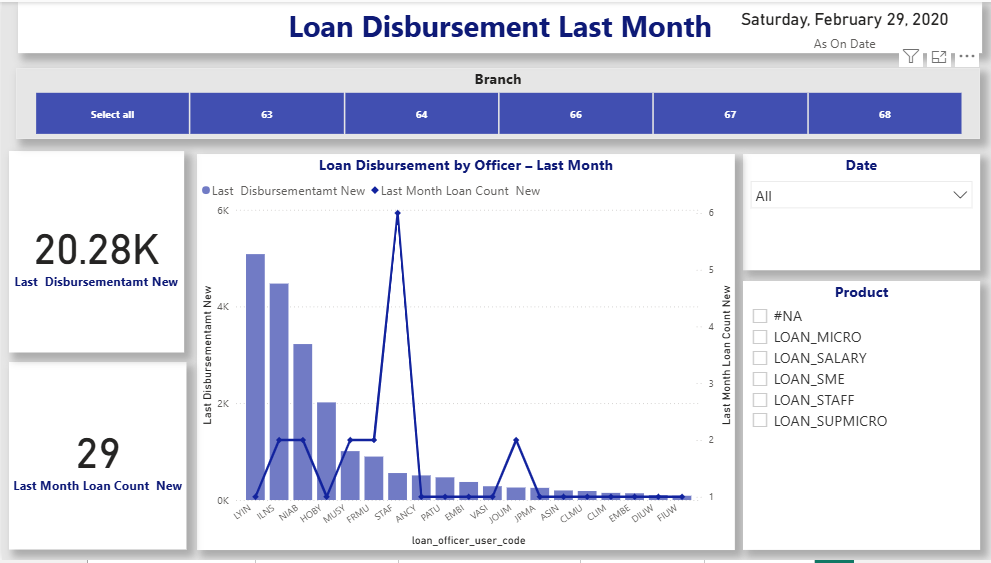

The page's visual inventory and layout, read from the dashboard file:
{"tool":"powerbi","page":{"name":"Last Month Disbursement","canvas":[1280,720],"ordinal":2},"visuals":[{"type":"slicer","title":"Date","fields":{"Values":["DimDate.FullDateAlternateKey.Variation.Date Hierarchy.Year","DimDate.FullDateAlternateKey.Variation.Date Hierarchy.Quarter","DimDate.FullDateAlternateKey.Variation.Date Hierarchy.Month","DimDate.FullDateAlternateKey.Variation.Date Hierarchy.Day"]},"box":[955.8,196.2,305.8,150.4],"z":0},{"type":"lineClusteredColumnComboChart","title":"Loan Disbursement by Officer – Last Month","fields":{"Category":["Dimension.loan_officer_user_code"],"Y":["FactLoan.Last  Disbursementamt New"],"Y2":["FactLoan.Last Month Loan Count  New"]},"box":[251.8,196.1,694.3,511.5],"z":1000},{"type":"card","fields":{"Values":["FactLoan.Last Month Loan Count  New"]},"box":[8.9,465.1,229.4,242.1],"z":2000},{"type":"slicer","title":"Product","fields":{"Values":["Dimension.product_key"]},"box":[955.8,360.6,305.8,346.6],"z":3000},{"type":"card","fields":{"Values":["FactLoan.Last  Disbursementamt New"]},"box":[8.9,192.4,225.6,260],"z":4000},{"type":"textbox","box":[20,0,1244,66],"z":5000},{"type":"card","fields":{"Values":["Max(DimDate.FullDateAlternateKey)"]},"box":[946.9,0,280.6,64.5],"z":7000},{"type":"slicer","title":"Branch","fields":{"Values":["Dimension.branch_key"]},"box":[18,85.5,1244,91.5],"z":8000}]}

Visuals, with their boxes in screenshot pixels (x1, y1, x2, y2), scaled from the page's 1280x720 canvas onto the 991x563 screenshot:
"Date" slicer: <bbox>740, 153, 977, 271</bbox>
"Loan Disbursement by Officer – Last Month" lineClusteredColumnComboChart: <bbox>195, 153, 732, 553</bbox>
card - FactLoan.Last Month Loan Count  New: <bbox>7, 364, 184, 553</bbox>
"Product" slicer: <bbox>740, 282, 977, 553</bbox>
card - FactLoan.Last  Disbursementamt New: <bbox>7, 150, 182, 354</bbox>
textbox: <bbox>15, 0, 979, 52</bbox>
card - Max(DimDate.FullDateAlternateKey): <bbox>733, 0, 950, 50</bbox>
"Branch" slicer: <bbox>14, 67, 977, 138</bbox>
